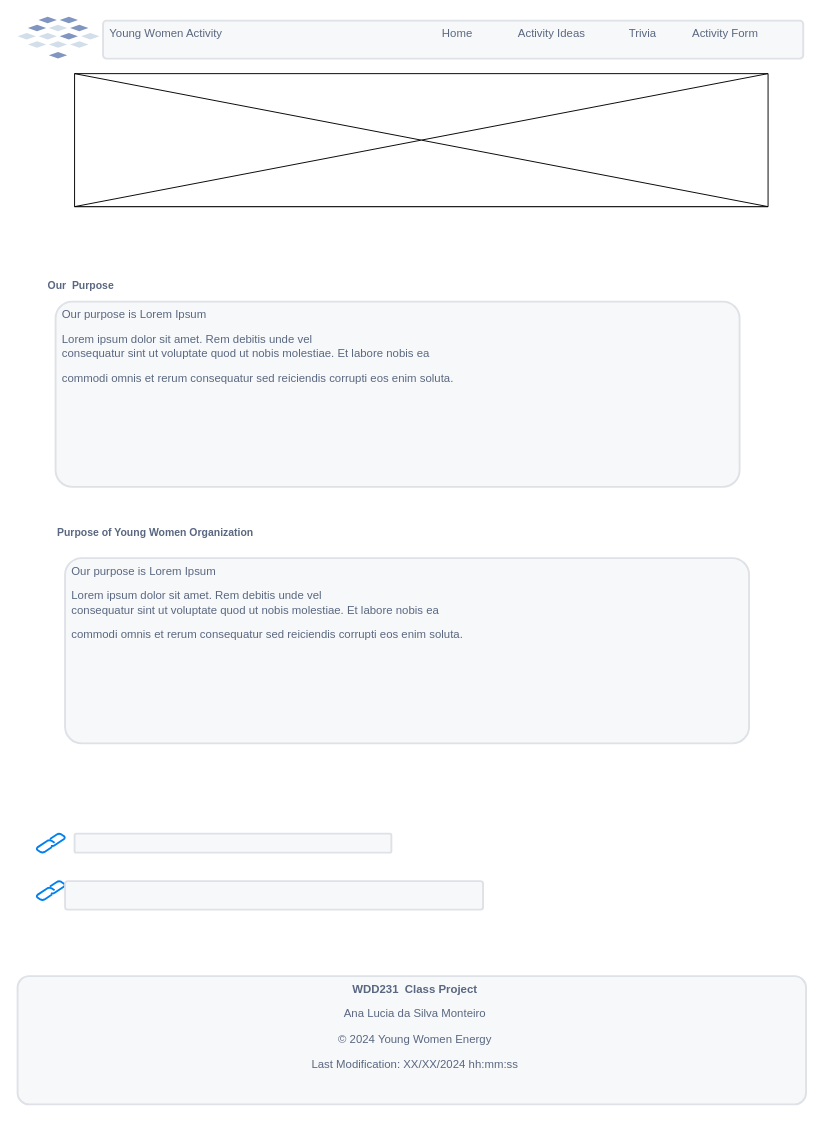
Image size: 823x1122. Some labels were removed from this diagram. The centre of each missing label's shape, as x and y in pixels:
https://www.churchofjesuschrist.org/: [232,842]
https://www.churchofjesuschrist.org/study/manual/general-handbook?lang=por: [274,895]
